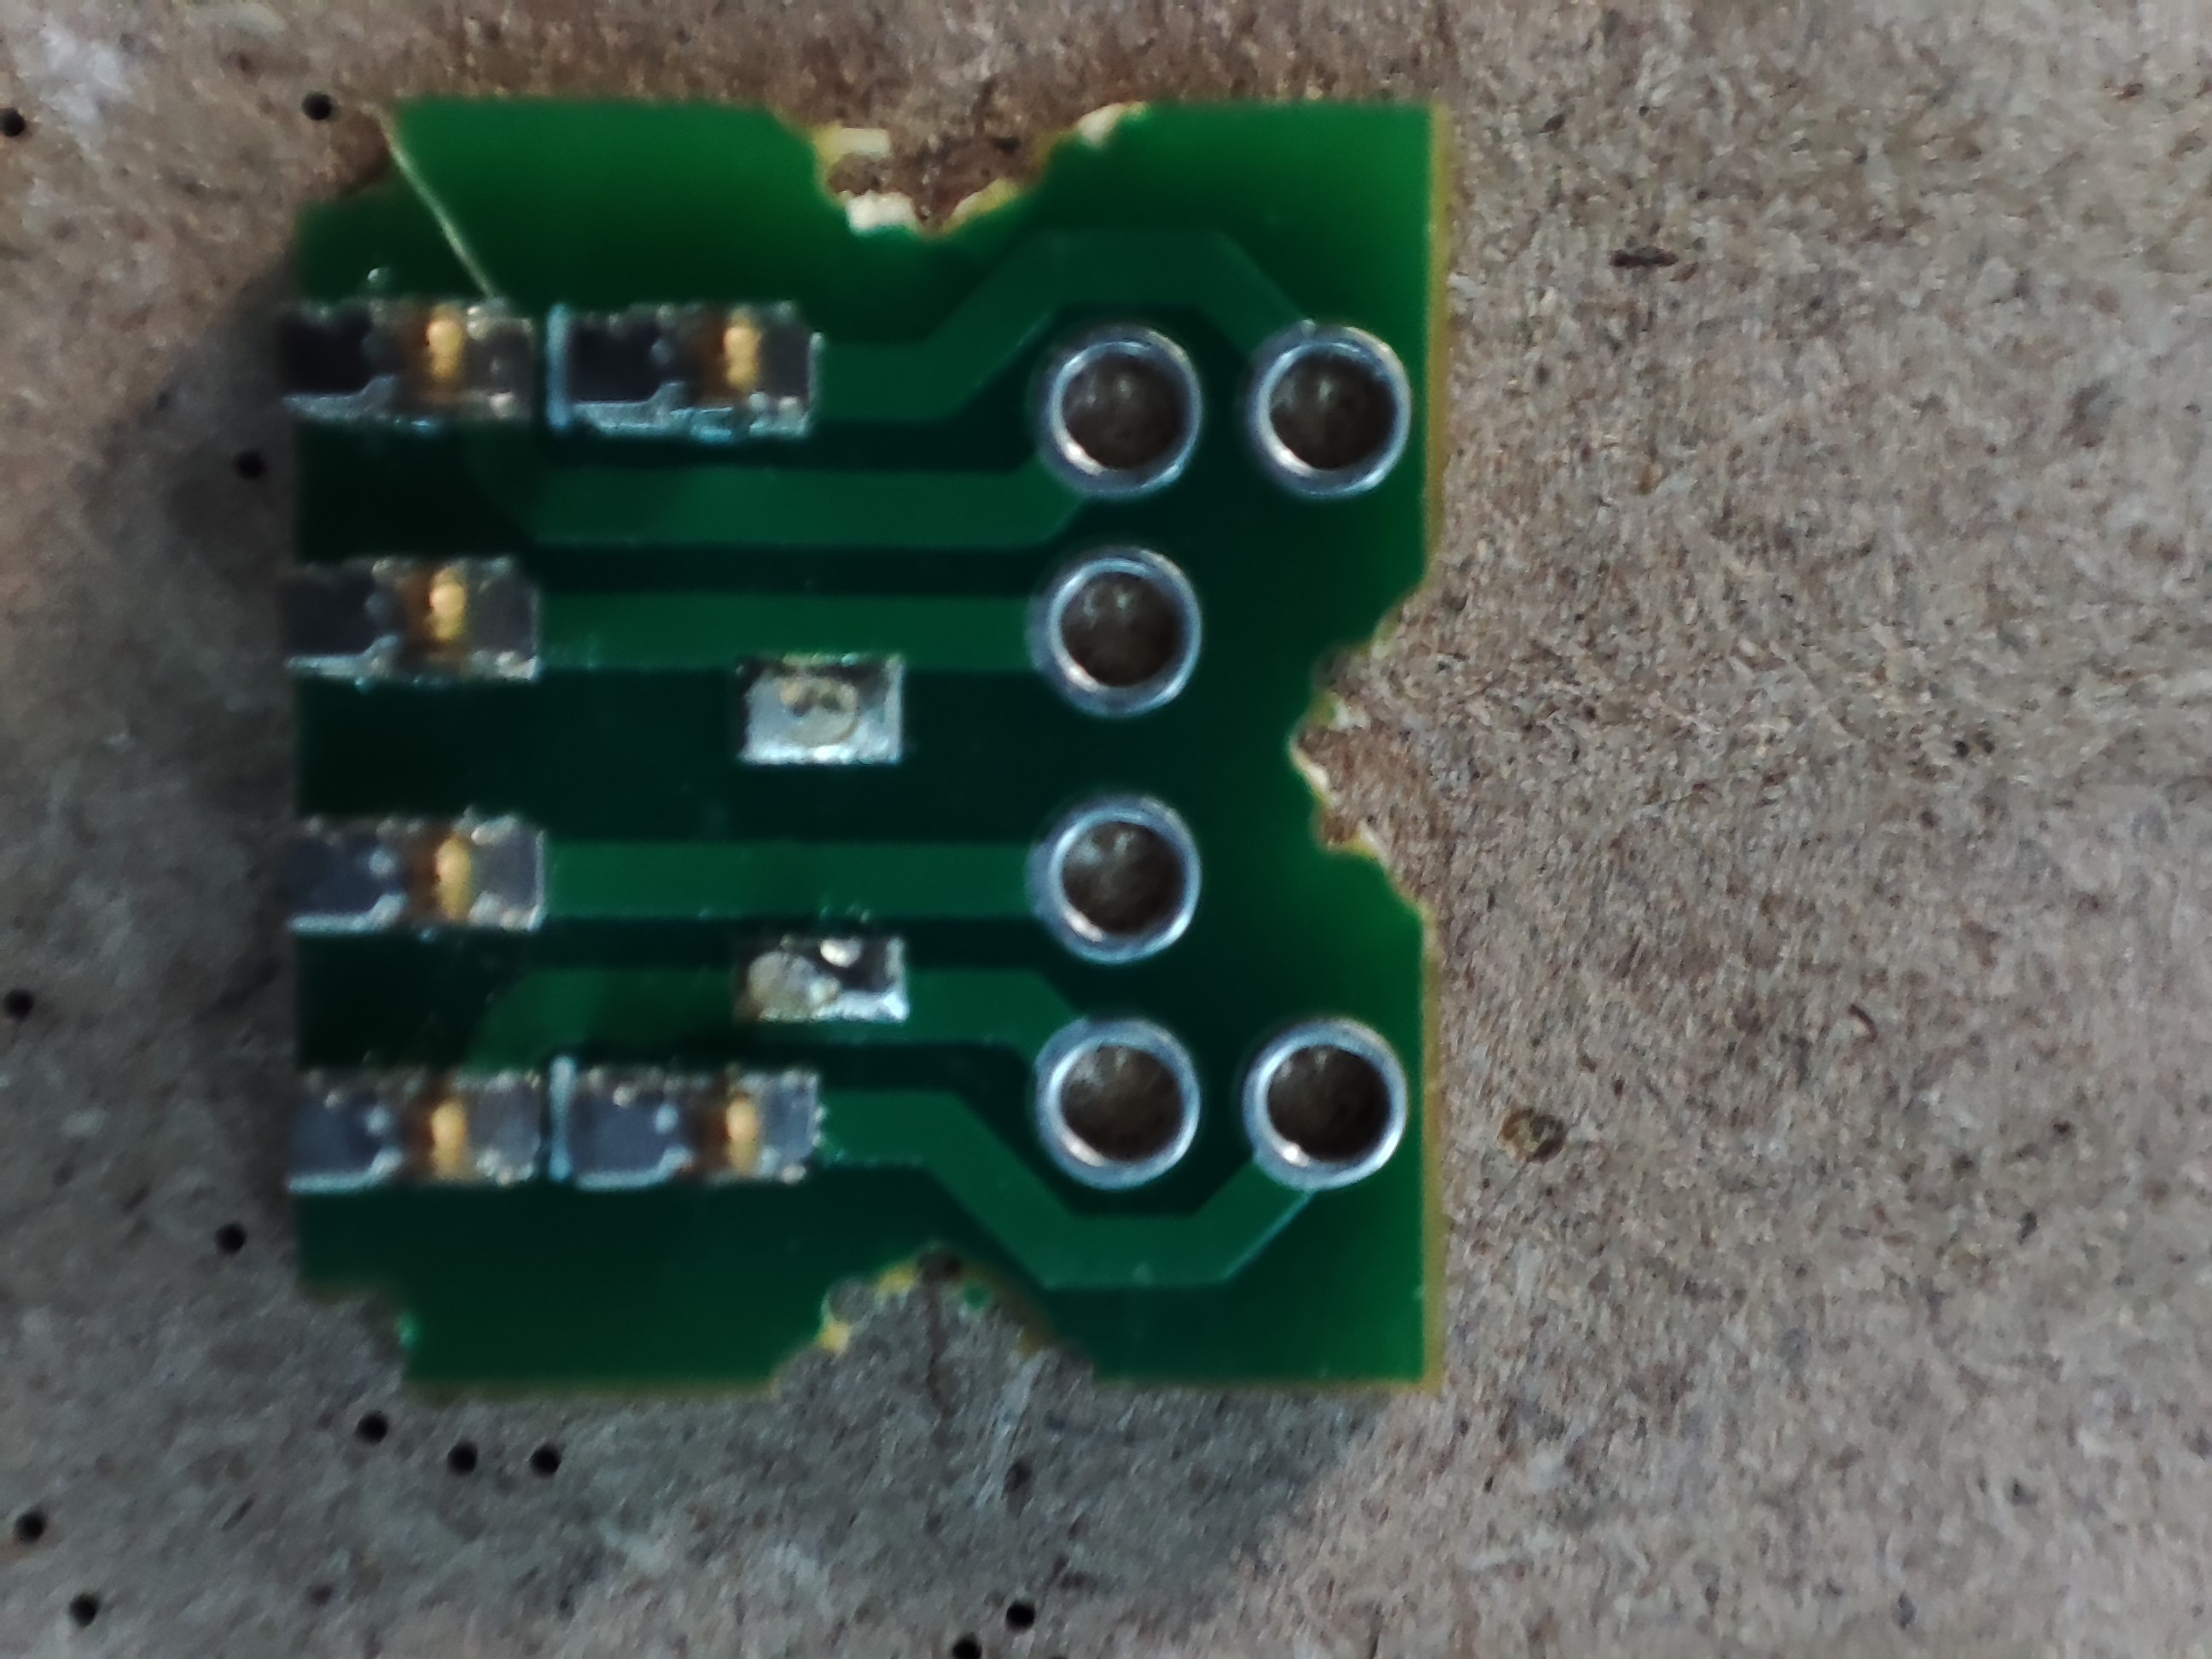PCB-MODEL-0: (268, 68, 1461, 1436)
normal-spring_finger: (554, 279, 841, 460), (266, 1044, 554, 1215), (272, 542, 564, 692), (273, 282, 547, 432), (263, 807, 564, 939), (570, 1058, 831, 1195)
normal-through: (1005, 772, 1256, 997), (1001, 1014, 1242, 1229), (1014, 521, 1233, 737), (1251, 1019, 1440, 1244), (1019, 296, 1221, 500), (1233, 301, 1428, 493)
